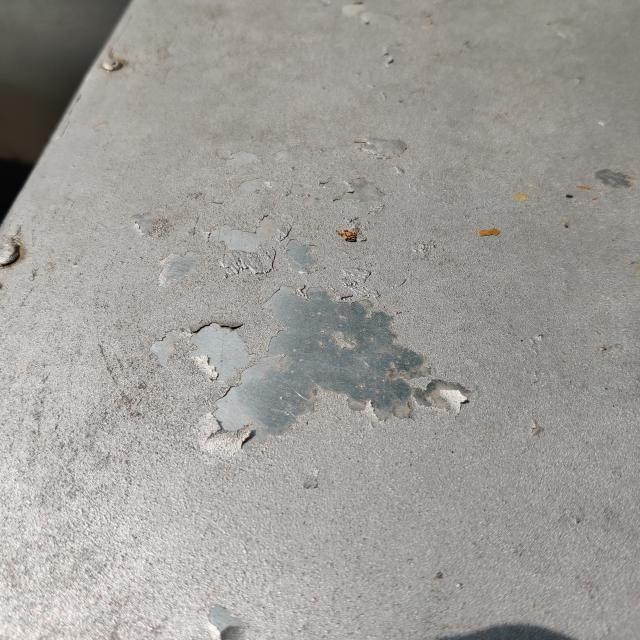paint-off: (143, 179, 501, 484)
